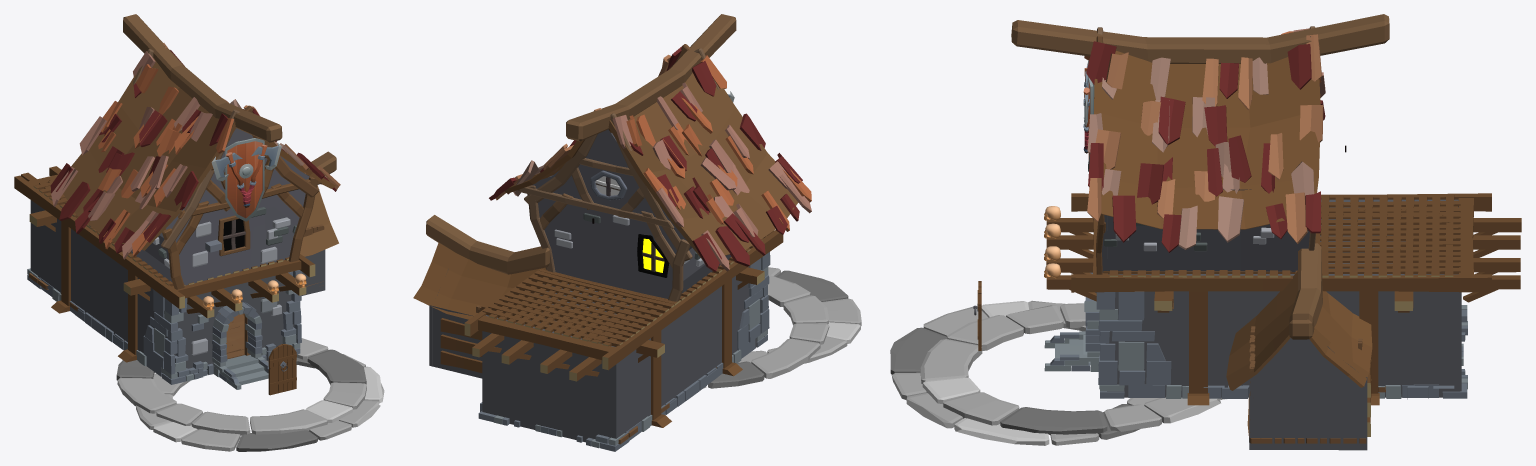
The model's file is Izba.fbx.
3 views of the same model, side by side, from view 1: azimuth 30°, elevation 25°; view 2: azimuth 150°, elevation 25°; view 3: azimuth 270°, elevation 25° (orthographic). The views are drawn at different scales.
Parts seen in each view (by area): view 1: House_4, Plane, Cube.043, Plane.005, Cube.049, Cube.026, House_4.006, Long_shield, House_4.086, House_4.080, Plane.013, Cube.016 (+18 smaller); view 2: House_4, Plane, Plane.001, House_4.088, Cube.043, Plane.006, Cube.026, Cube.049, Cube.039, House_4.089, Cube.002, Cube.004 (+26 smaller); view 3: House_4, Plane.002, Cube.043, Cube.026, House_4.091, Cube.049, Plane.003, House_4.015, Plane.013, Plane.006, Cube.039, House_4.096 (+33 smaller).
Part boxes in pixels (box(x1,y1,x2,y2)): House_4: box(14, 166, 302, 389); Plane: box(63, 57, 236, 250); Cube.043: box(116, 338, 366, 435); Plane.005: box(166, 128, 309, 285); Cube.049: box(136, 354, 384, 451); Cube.026: box(123, 14, 282, 142); House_4.006: box(168, 275, 294, 377); Long_shield: box(225, 138, 264, 221); House_4.086: box(212, 302, 262, 366); House_4.080: box(268, 344, 296, 395); Plane.013: box(300, 185, 338, 256); Cube.016: box(161, 109, 239, 249); House_4: box(472, 230, 783, 451); Plane: box(608, 73, 798, 259); Plane.001: box(527, 129, 686, 298); House_4.088: box(482, 331, 616, 442); Cube.043: box(703, 275, 829, 388); Plane.006: box(413, 242, 547, 319); Cube.026: box(566, 14, 736, 141); Cube.049: box(738, 267, 861, 363); Cube.039: box(426, 215, 549, 274); House_4.089: box(429, 305, 482, 378); Cube.002: box(518, 186, 674, 228); Cube.004: box(524, 109, 599, 204); House_4: box(1044, 193, 1520, 405); Plane.002: box(1094, 51, 1320, 229); Cube.043: box(920, 303, 1226, 434); Cube.026: box(1011, 14, 1389, 63); House_4.091: box(1249, 377, 1367, 450); Cube.049: box(890, 300, 1158, 445); Plane.003: box(1102, 189, 1309, 272); House_4.015: box(1071, 274, 1491, 292); Plane.013: box(1226, 271, 1297, 390); Plane.006: box(1309, 291, 1372, 387); Cube.039: box(1289, 243, 1322, 339); House_4.096: box(1253, 338, 1354, 378).
Size of the model in its own units: 336 by 316 by 499.
